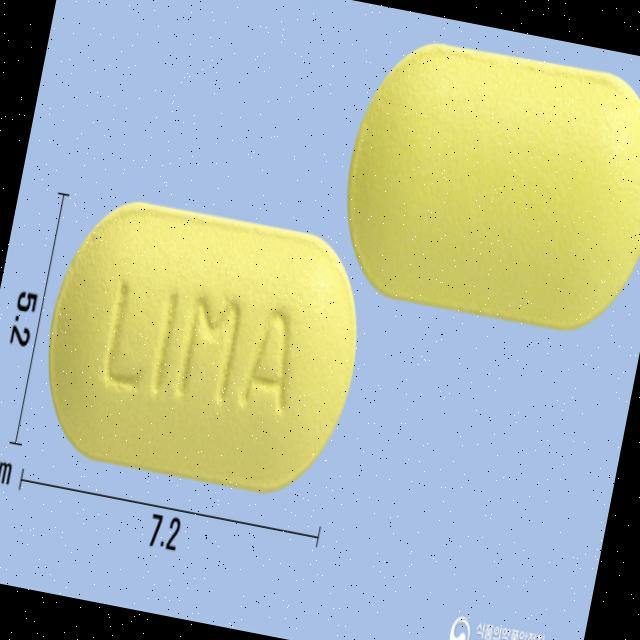Liamclo -250mg: (28, 188, 380, 508), (328, 29, 640, 343)
